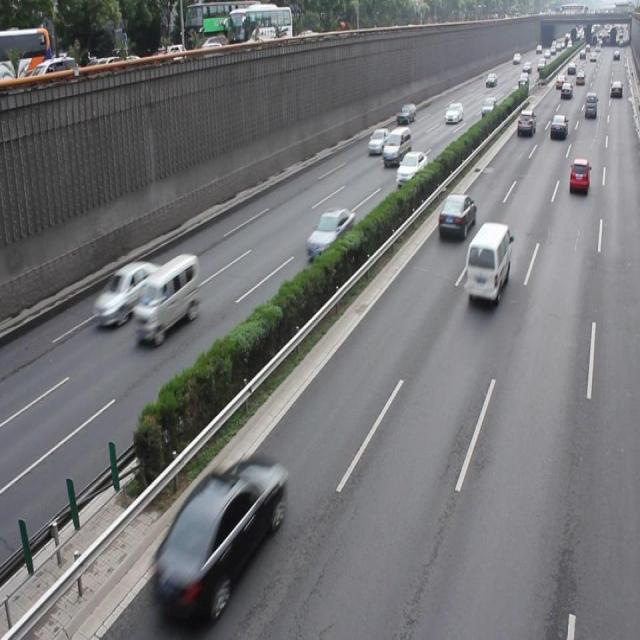car: (152, 456, 284, 620), (90, 260, 162, 327), (306, 205, 354, 258), (436, 191, 475, 240), (395, 149, 427, 185), (568, 157, 587, 194)
truck: (132, 252, 201, 345), (464, 220, 510, 304)
